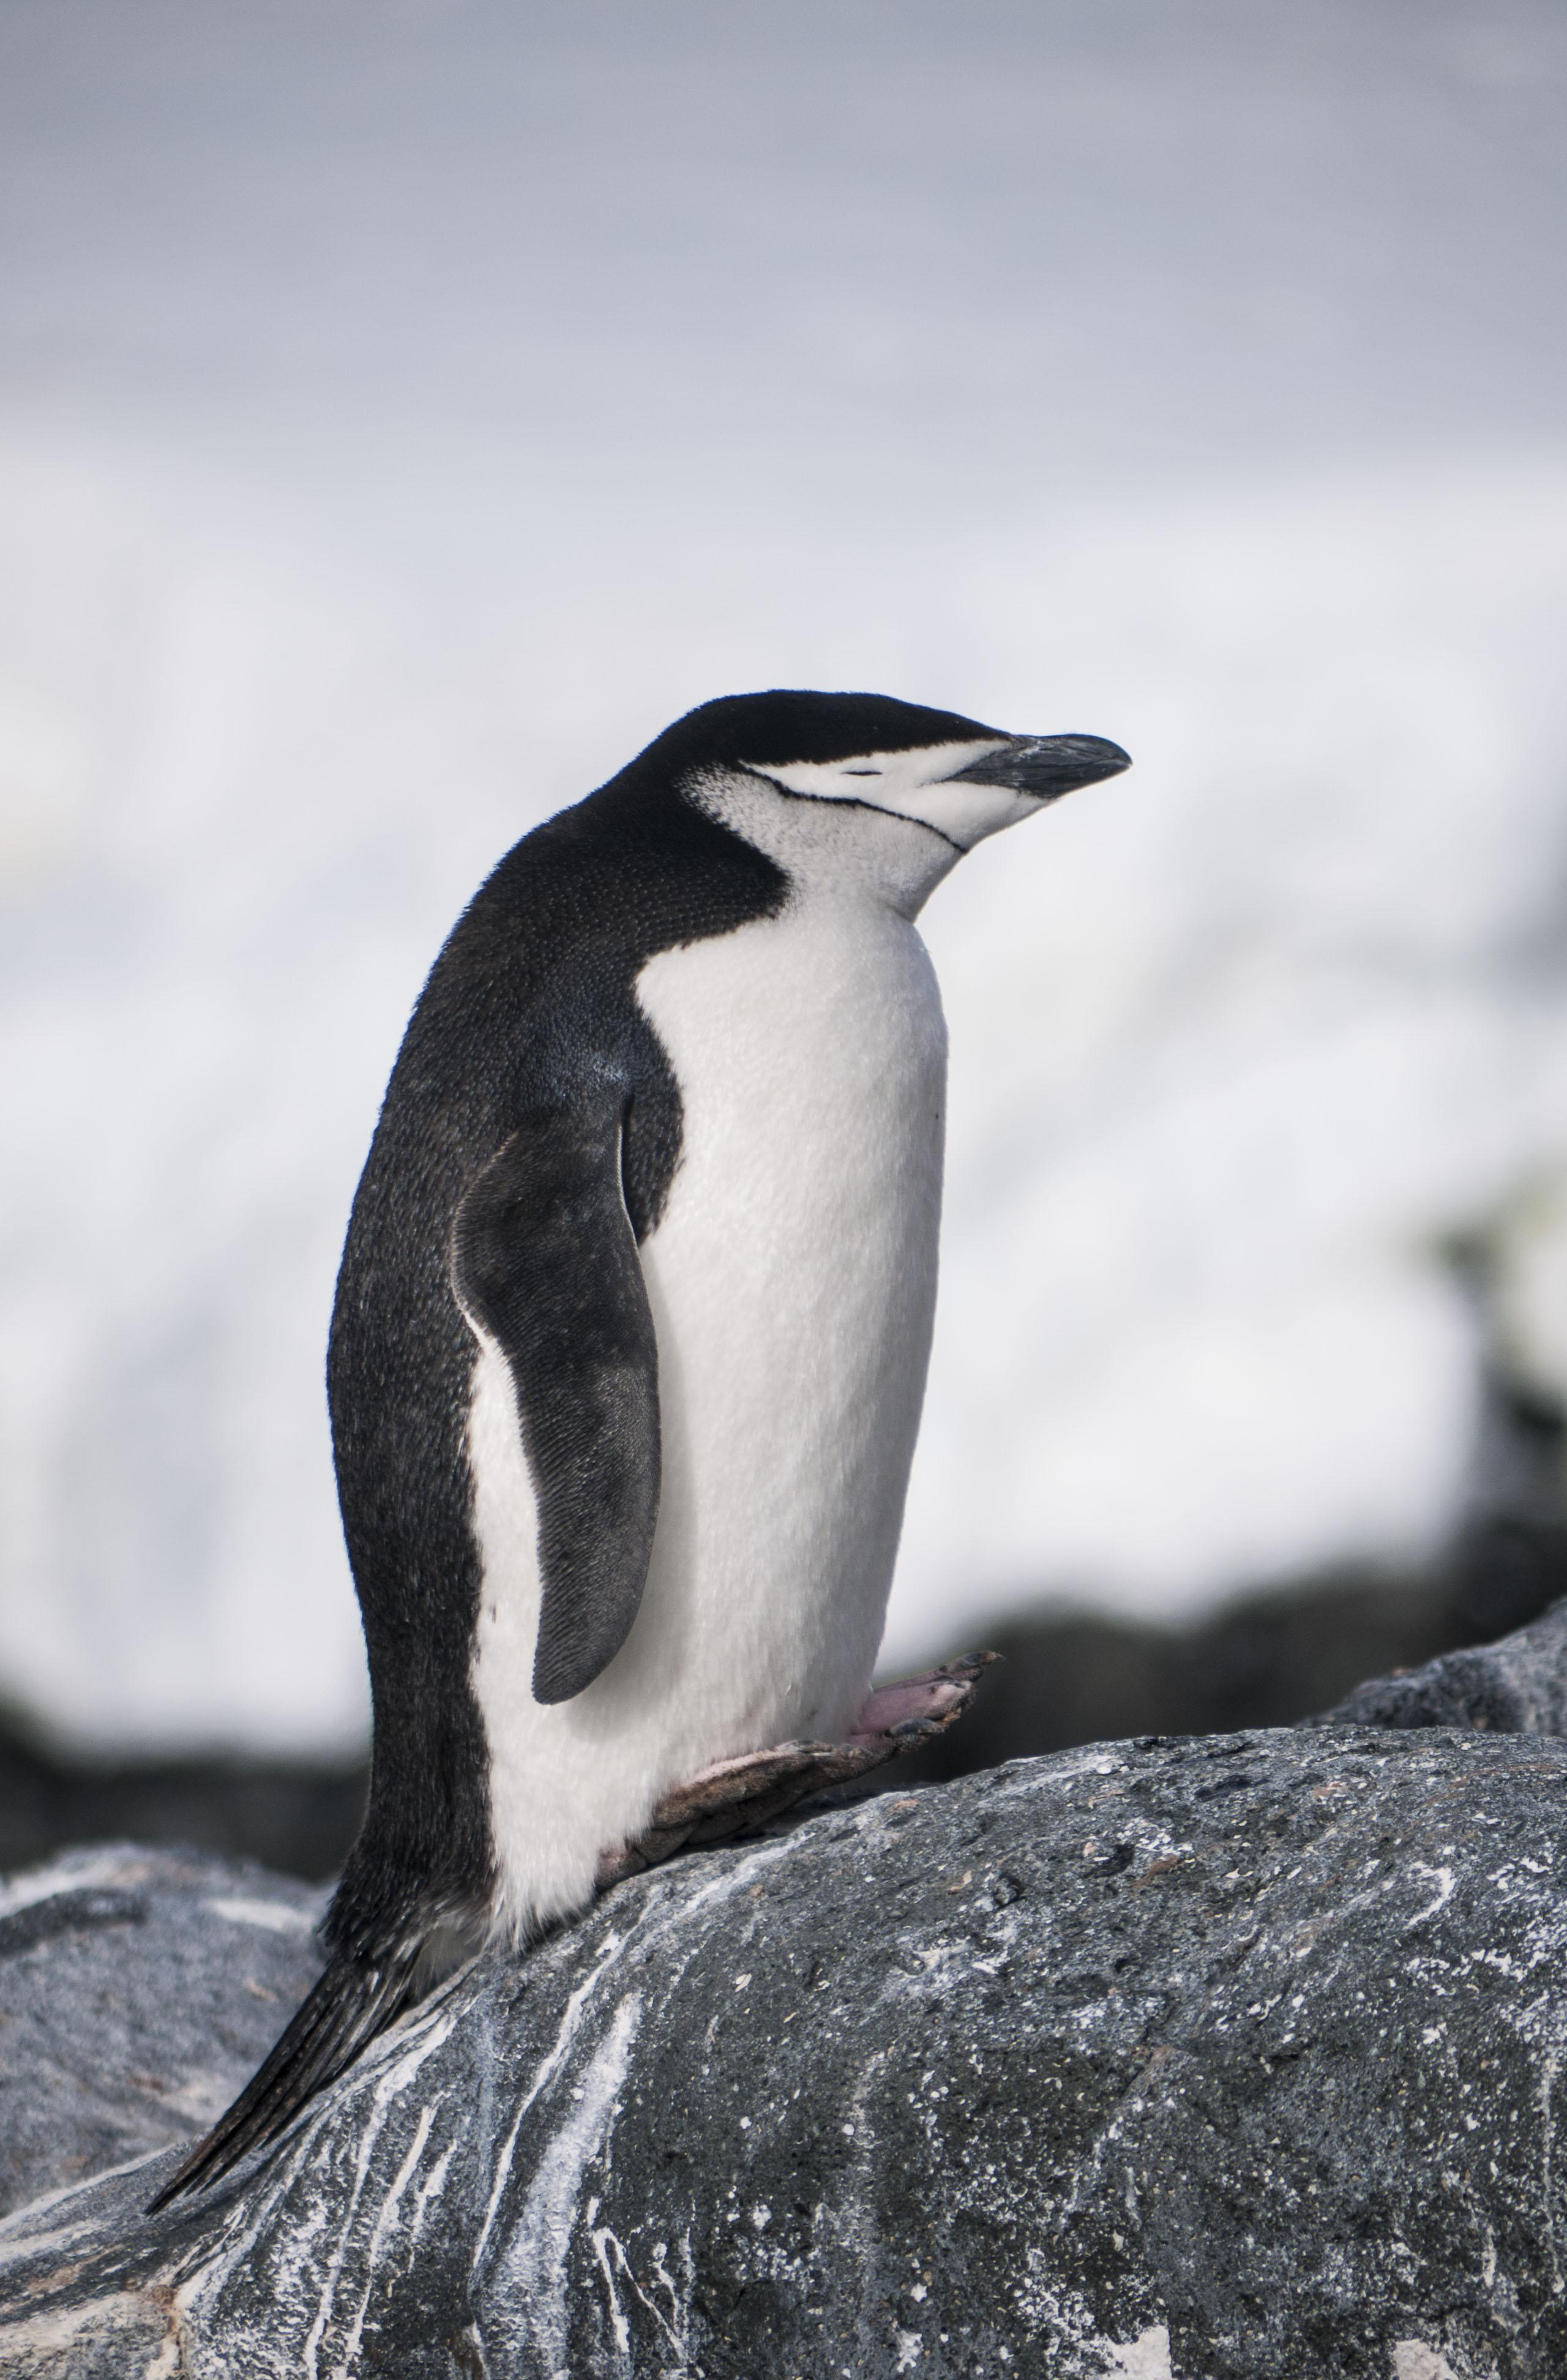chinstrap: (205, 540, 1165, 2076)
